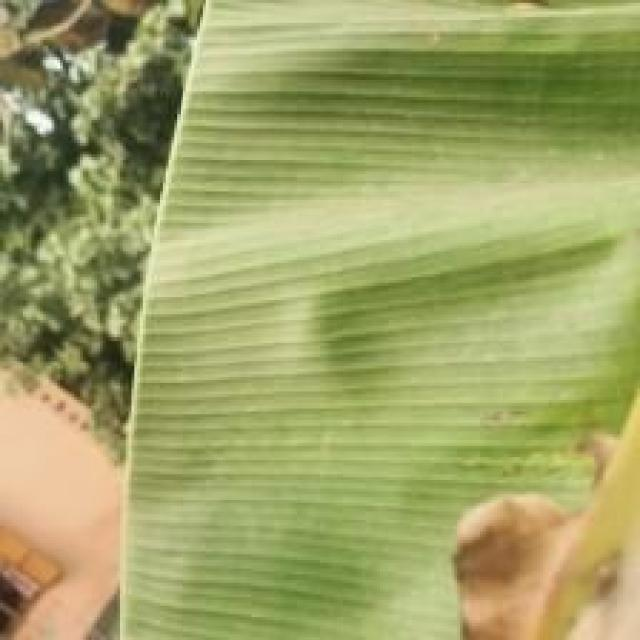Black_leaf_spot: (58, 0, 640, 625)
